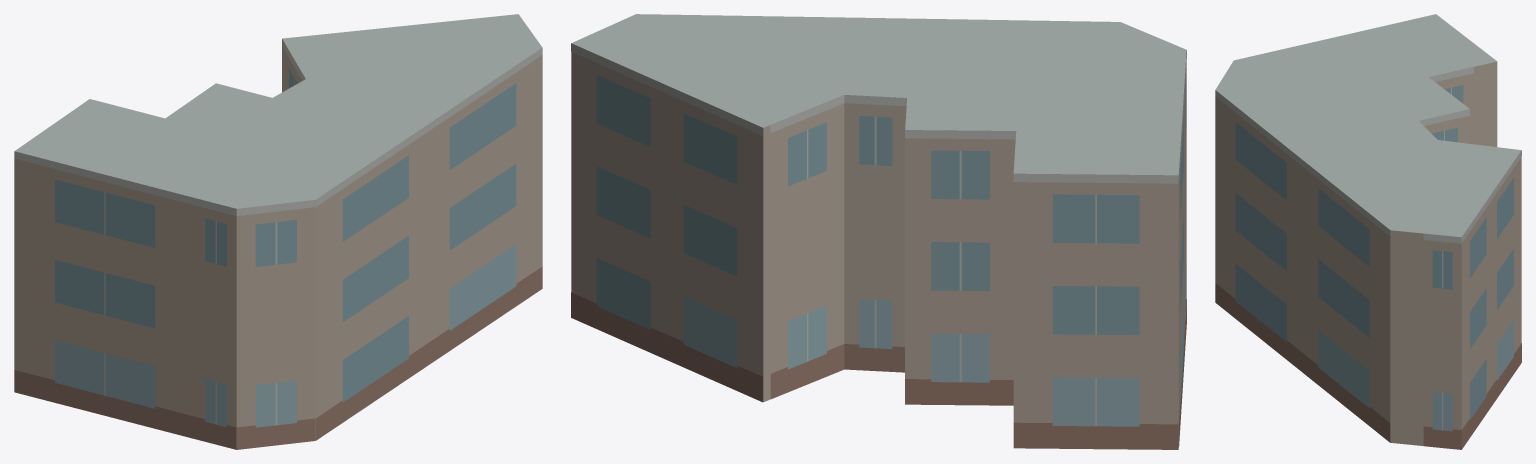
Rendered from survey-upis-32935333.glb.
The picture shows the model from 3 angles, left to right: view 1: azimuth 30°, elevation 25°; view 2: azimuth 150°, elevation 25°; view 3: azimuth 270°, elevation 25°; orthographic projection. The views are drawn at different scales.
Visible parts, largest first — view 1: survey-upis-32935333.tmp; view 2: survey-upis-32935333.tmp; view 3: survey-upis-32935333.tmp.
Part boxes in pixels (bbox=[...]): survey-upis-32935333.tmp: bbox=[14, 14, 542, 449]; survey-upis-32935333.tmp: bbox=[571, 14, 1186, 449]; survey-upis-32935333.tmp: bbox=[1215, 14, 1521, 449].
Size of the model in its own units: 18.03 by 8 by 10.46.
